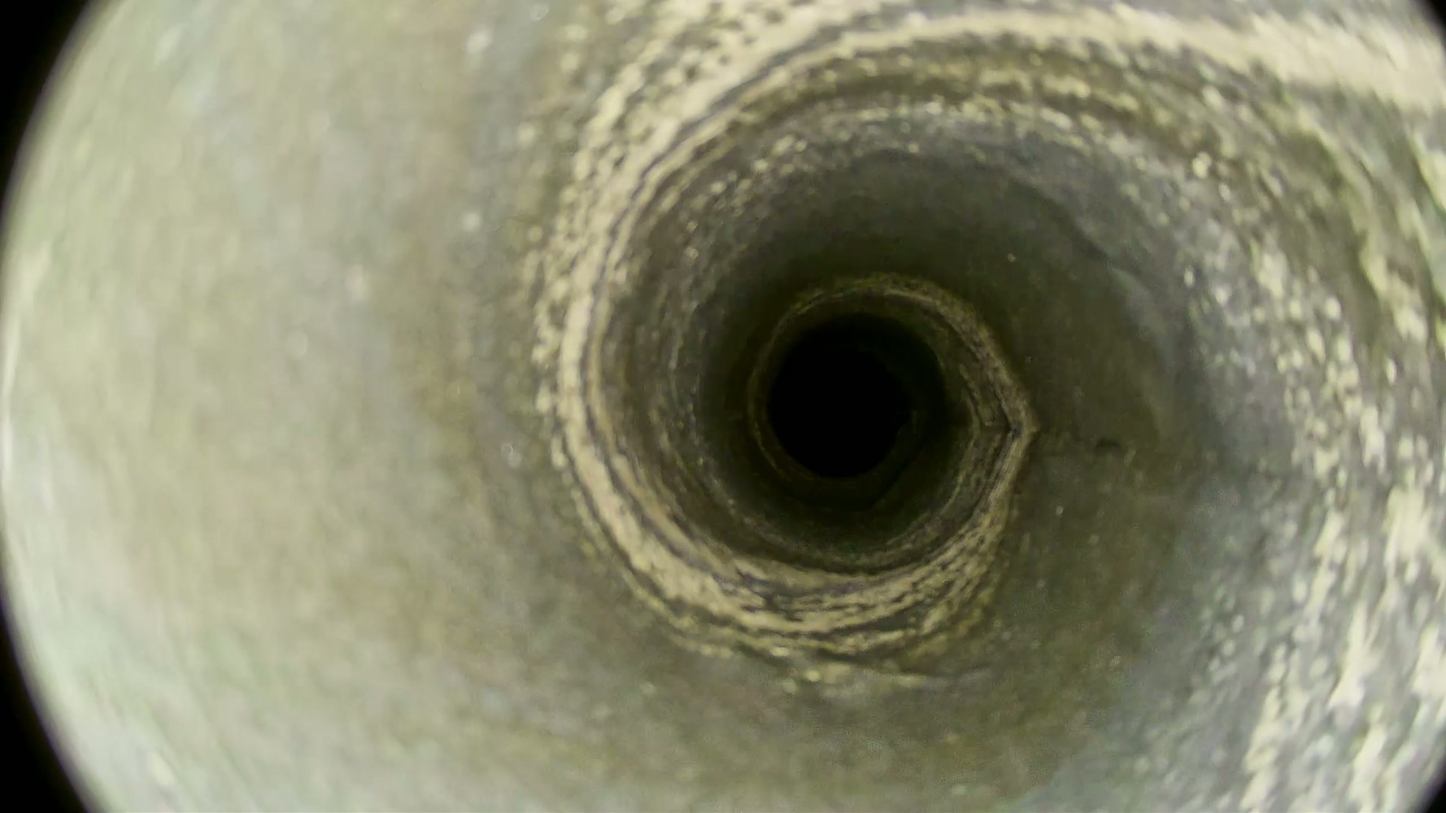hole: (772, 350, 901, 478)
